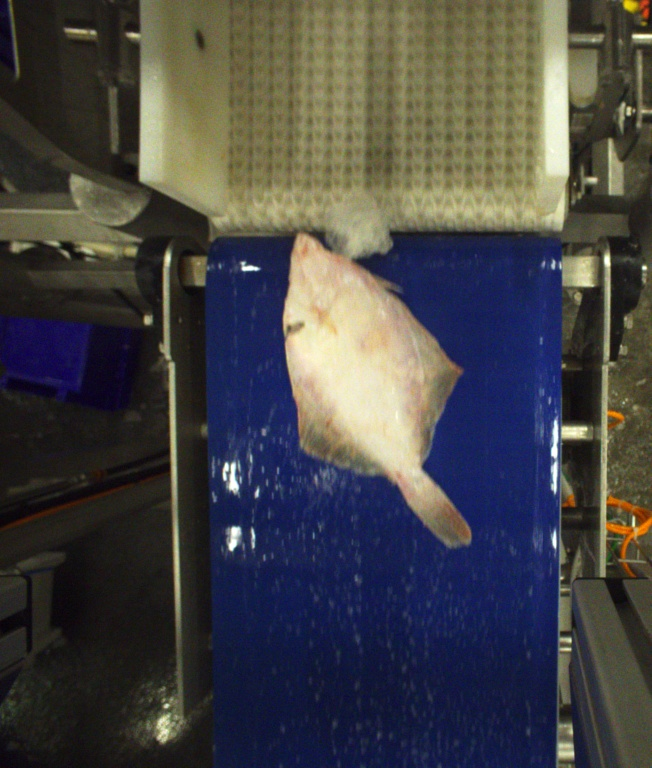PLE: (285, 232, 470, 548)
